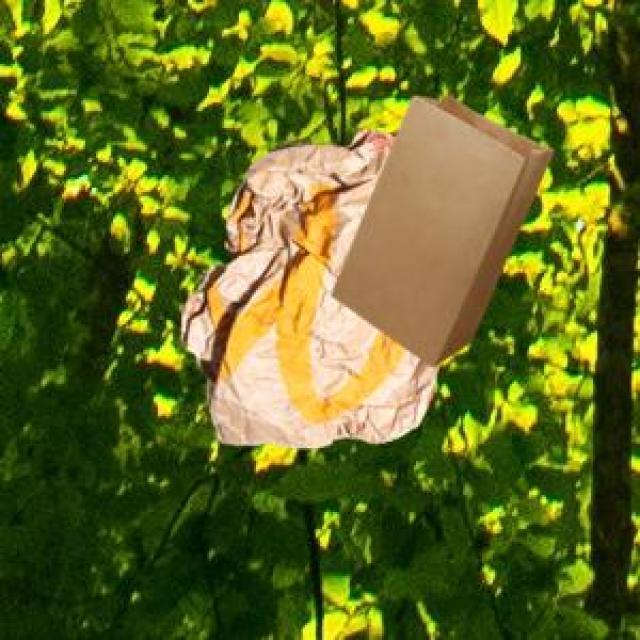paper: (177, 126, 433, 444), (329, 92, 548, 363)
